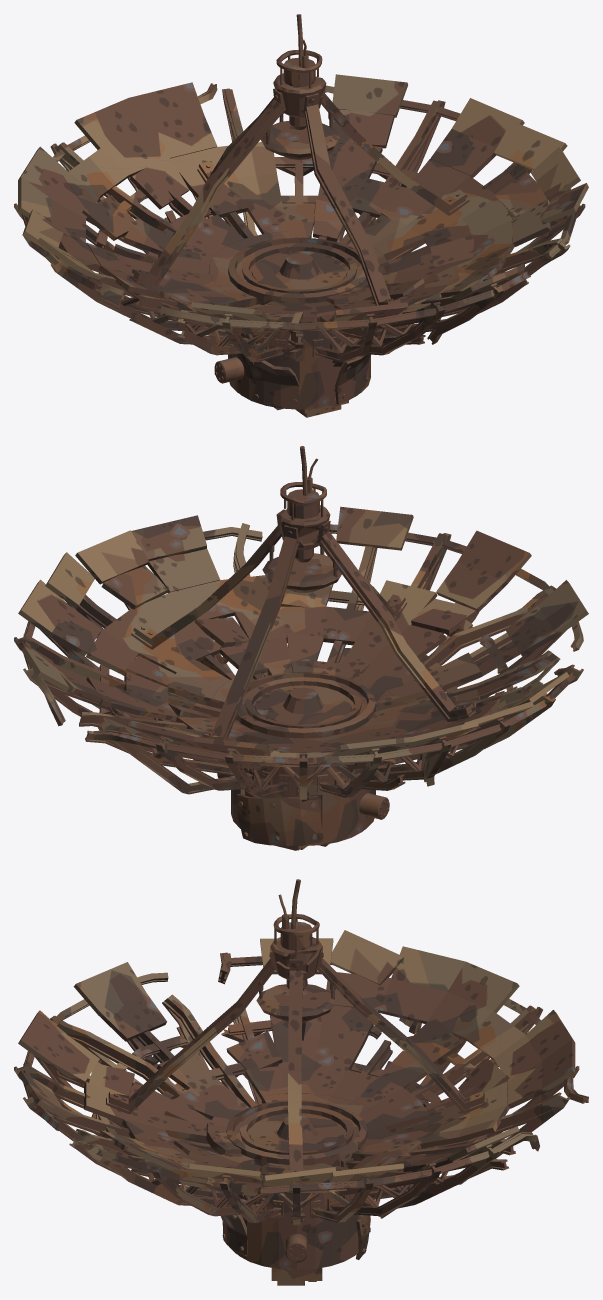
Rendered from SM_Bld_Scav_Dish_01.fbx.
3 views of the same model, one above another, from view 1: azimuth 30°, elevation 25°; view 2: azimuth 150°, elevation 25°; view 3: azimuth 270°, elevation 25° (orthographic). The views are drawn at different scales.
Visible parts, largest first — view 1: SM_Bld_Scav_Dish_01; view 2: SM_Bld_Scav_Dish_01; view 3: SM_Bld_Scav_Dish_01.
Part boxes in pixels (box(x1,y1,x2,y2)): SM_Bld_Scav_Dish_01: box(14, 14, 588, 417); SM_Bld_Scav_Dish_01: box(14, 446, 588, 850); SM_Bld_Scav_Dish_01: box(14, 879, 588, 1285).
Bounding box in the file's own units: 8329 × 6223 × 8302.
